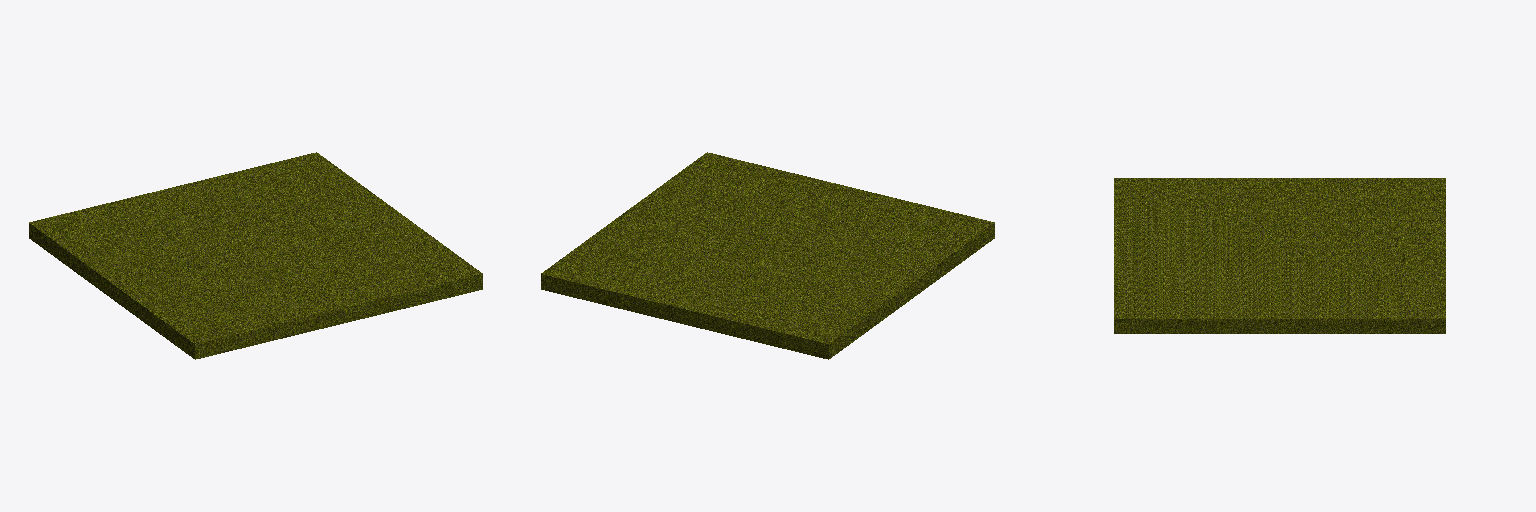
3 views of the same model, side by side, from view 1: azimuth 30°, elevation 25°; view 2: azimuth 150°, elevation 25°; view 3: azimuth 270°, elevation 25° (orthographic).
Parts seen in each view (by area): view 1: Box01; view 2: Box01; view 3: Box01.
Part boxes in pixels (left/top/right/bottom): Box01: left=29, top=152, right=482, bottom=359; Box01: left=541, top=152, right=994, bottom=359; Box01: left=1114, top=178, right=1445, bottom=333.
Bounding box in the file's own units: 102 × 5.25 × 102.
Materials: 1 (1 with a texture image).